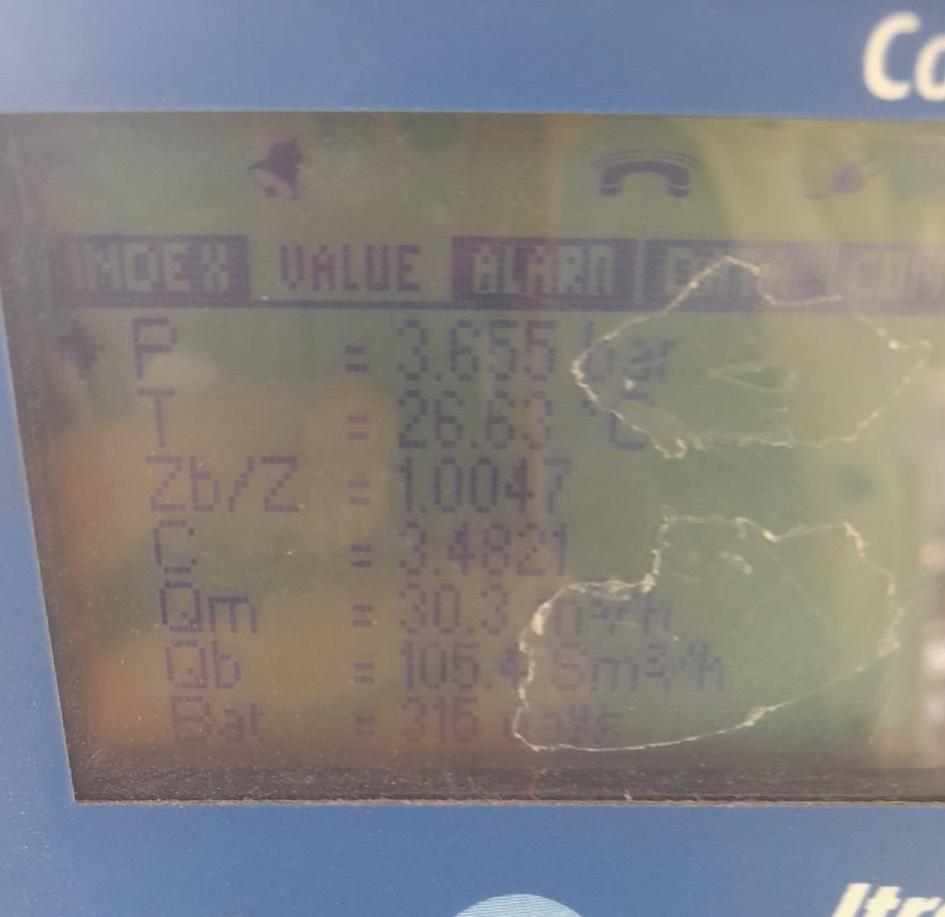digital_screen: (3, 115, 944, 804)
